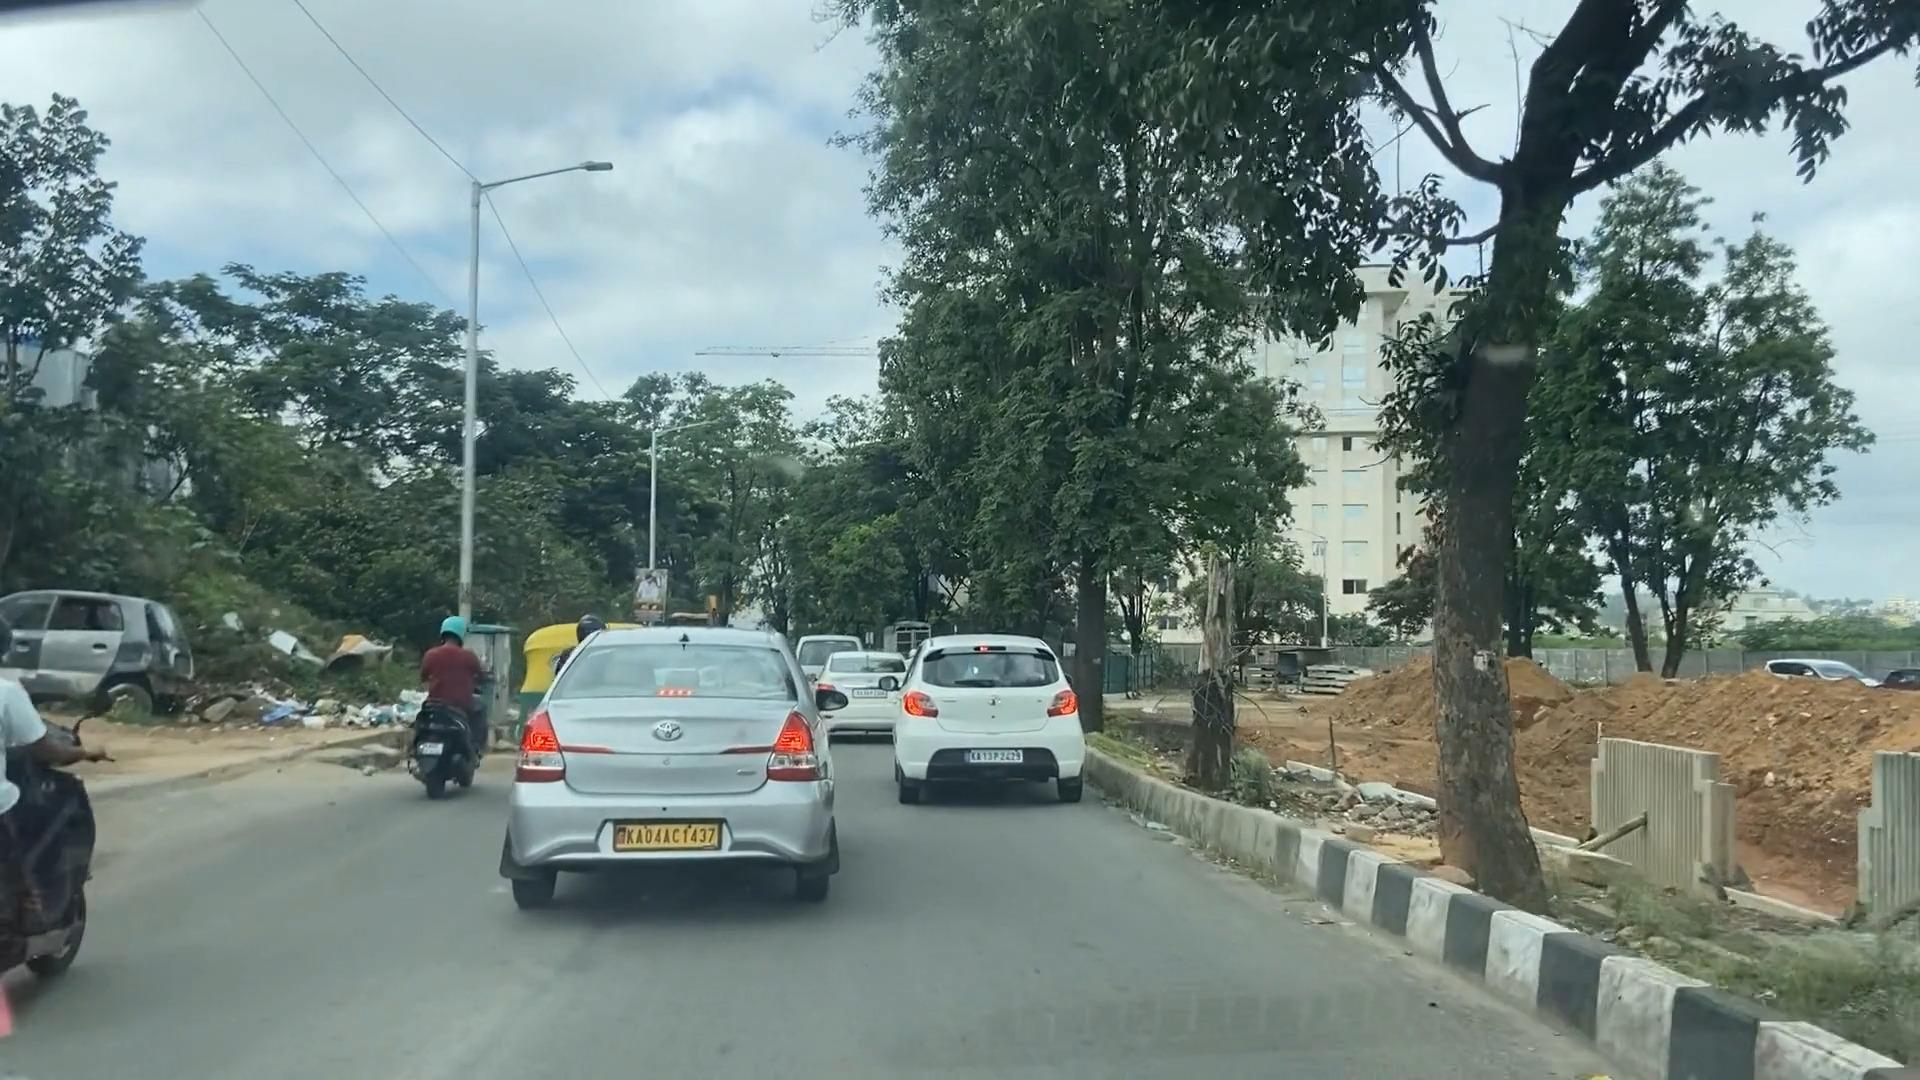LMV: (538, 662, 811, 889), (901, 647, 1064, 802), (414, 616, 489, 782)
